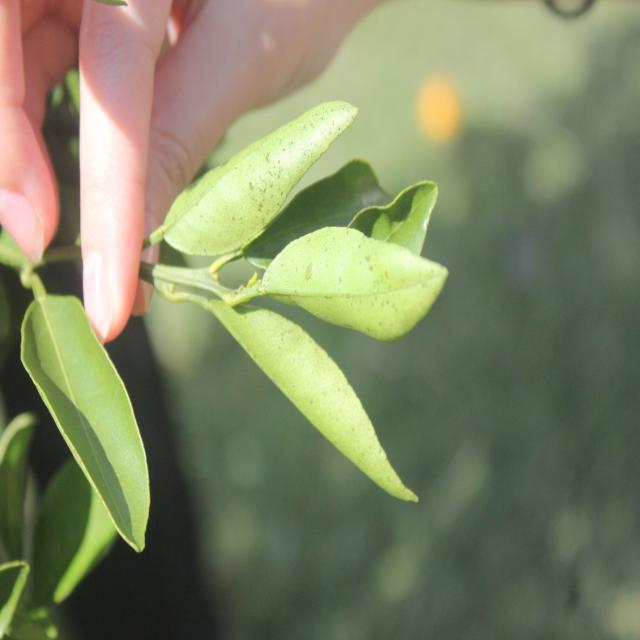melanose: (214, 300, 433, 515), (179, 82, 353, 264), (254, 225, 446, 337)
